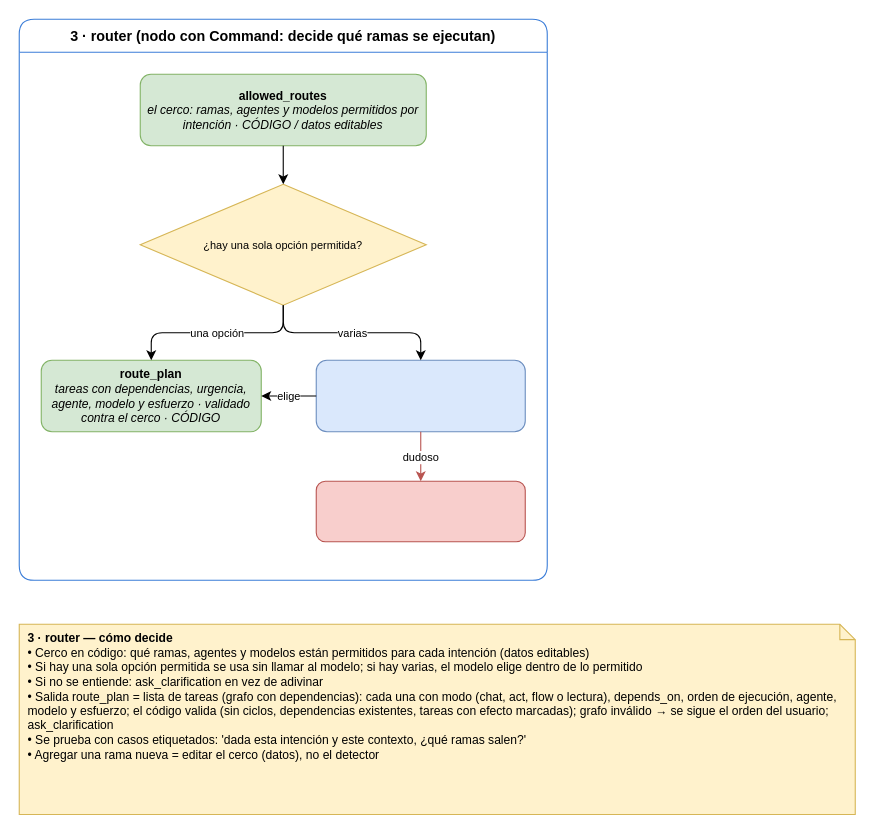
Some shapes in this 875 by 834 pixel diagram are drawn without their labels. The centre of each missing label's shape, as x and y in pixels:
ask_clarification preguntar al usuario: the point at 420,511
router_llm elige dentro de lo permitido · gpt-4.1-mini (por probar): the point at 420,395
